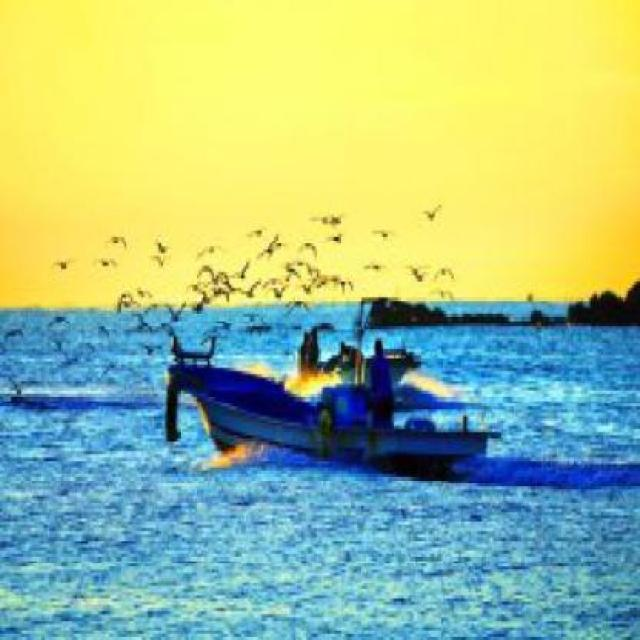fish-b: (156, 305, 507, 494)
